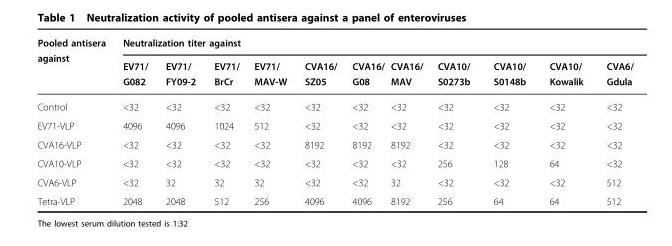table: (36, 36, 632, 206)
table column: (36, 36, 113, 206), (536, 36, 594, 206), (481, 36, 536, 206), (429, 36, 481, 206), (246, 36, 295, 206), (156, 36, 204, 206), (295, 36, 343, 206), (113, 36, 156, 206), (343, 36, 386, 206), (386, 36, 429, 206), (204, 36, 246, 206), (594, 36, 632, 206)
table column header: (36, 36, 632, 93)
table row: (36, 54, 632, 93), (36, 93, 632, 115), (36, 115, 632, 134), (36, 134, 632, 153), (36, 153, 632, 172), (36, 172, 632, 191), (36, 36, 632, 54), (36, 191, 632, 206)
table spanning cell: (113, 36, 632, 54), (36, 36, 113, 93)
